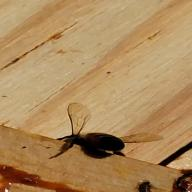Bee: (65, 102, 162, 164)
